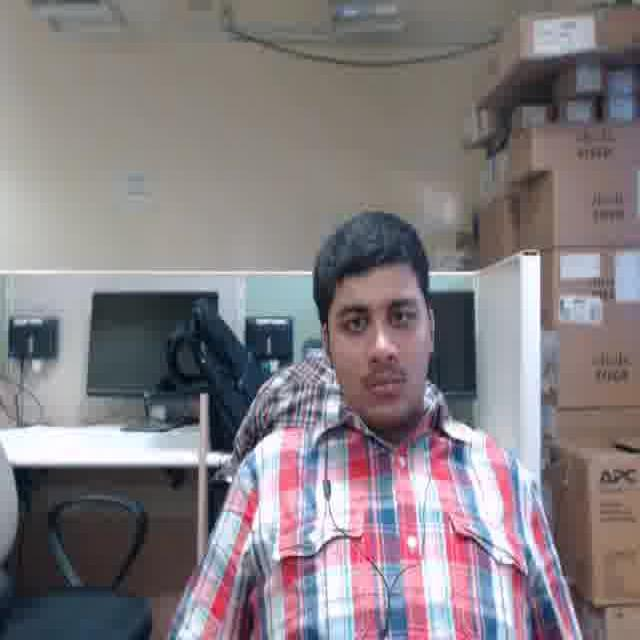Boredom: (328, 263, 424, 416)
